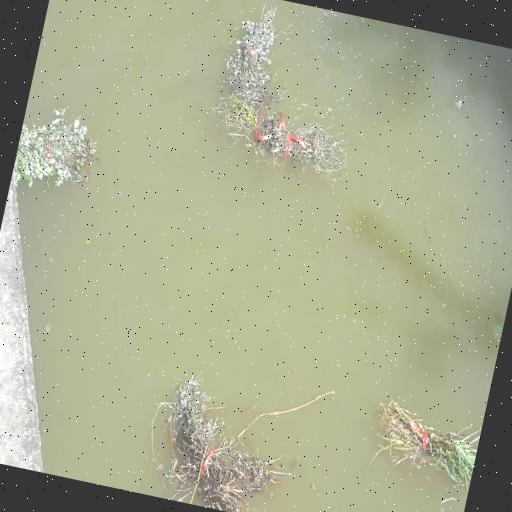twig: (142, 360, 319, 512), (208, 94, 354, 182), (364, 391, 484, 494), (216, 0, 304, 114), (10, 100, 106, 198)
